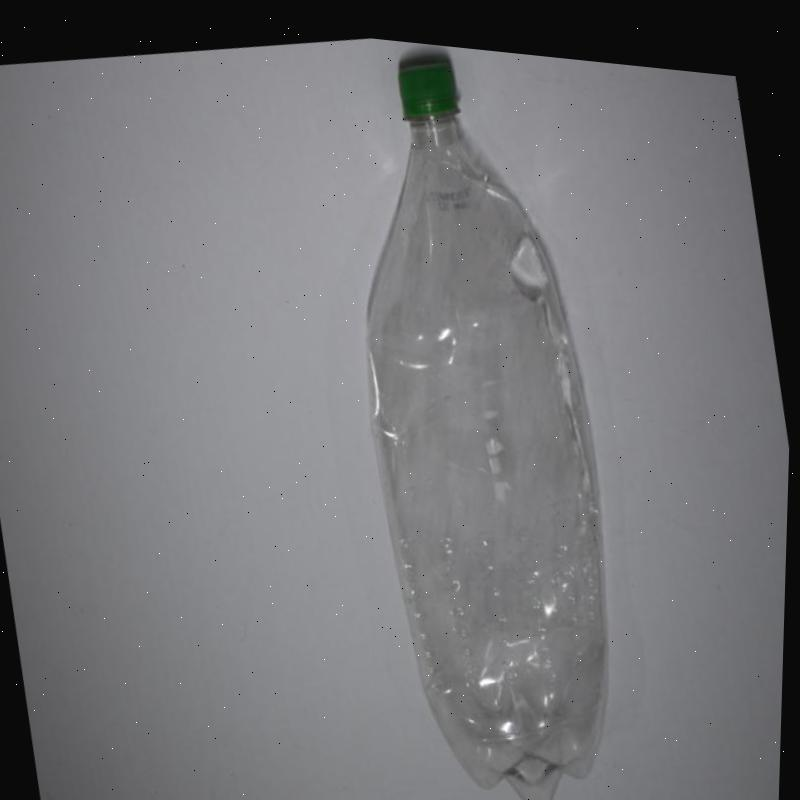botella: (301, 26, 662, 800)
